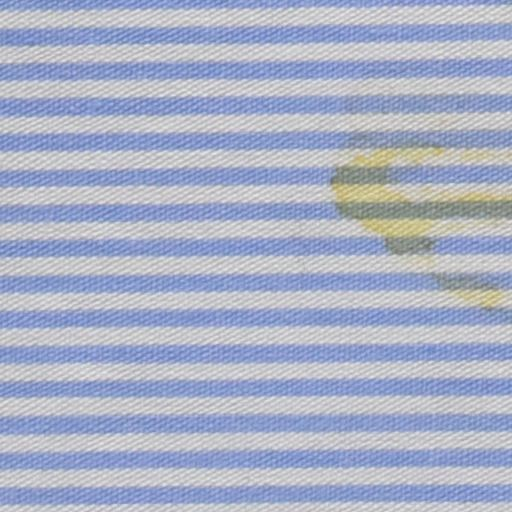defect: (329, 131, 512, 254)
